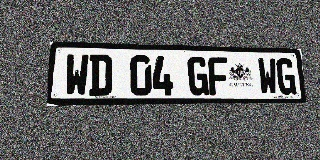0: (130, 55, 152, 96)
4: (152, 56, 174, 96)
D: (89, 54, 112, 96)
F: (208, 57, 229, 95)
G: (187, 56, 209, 95), (276, 58, 297, 95)
W: (64, 54, 89, 96), (257, 58, 278, 95)
